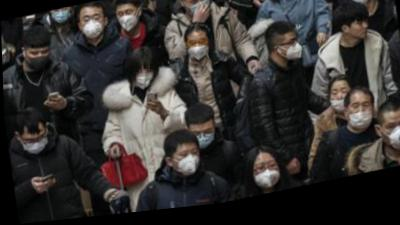NONE: (351, 21, 370, 49)
OK: (171, 148, 201, 183), (250, 164, 280, 197), (19, 128, 50, 158), (78, 11, 107, 42), (24, 43, 52, 73), (380, 122, 400, 163), (189, 127, 215, 157), (186, 38, 210, 66), (281, 39, 303, 69), (117, 8, 140, 36), (133, 66, 156, 93), (186, 1, 212, 24), (350, 1, 372, 15), (275, 1, 298, 5)
WRONG: (345, 104, 374, 139), (327, 91, 354, 122)
